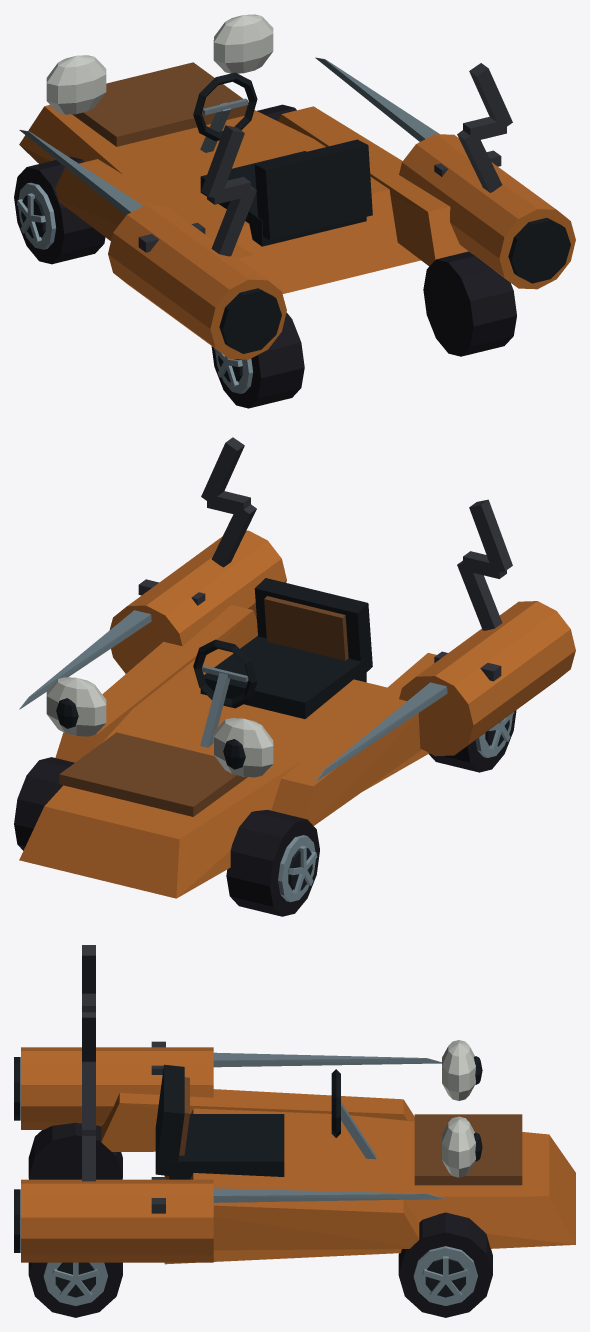
File: kart.glb
The picture shows the model from 3 angles, top to bottom: view 1: azimuth 30°, elevation 25°; view 2: azimuth 150°, elevation 25°; view 3: azimuth 270°, elevation 25°; orthographic projection. The views are drawn at different scales.
Parts seen in each view (by area): view 1: identity-speeder-speeder-long-cowl-and-stern-turbines, identity-speeder-driver-cockpit, wheel-rear-right, identity-speeder-motif-electric, identity-speeder-motif-eyes, wheel-front-left, wheel-rear-left, identity-speeder-motif-swords; view 2: identity-speeder-speeder-long-cowl-and-stern-turbines, identity-speeder-driver-cockpit, wheel-front-left, identity-speeder-motif-electric, identity-speeder-motif-eyes, identity-speeder-motif-swords, wheel-front-right, wheel-rear-left; view 3: identity-speeder-speeder-long-cowl-and-stern-turbines, identity-speeder-driver-cockpit, wheel-front-right, identity-speeder-motif-swords, wheel-rear-right, identity-speeder-motif-eyes, wheel-rear-left, identity-speeder-motif-electric.
Part boxes in pixels (bbox=[...]): identity-speeder-speeder-long-cowl-and-stern-turbines: bbox=[19, 62, 575, 359]; identity-speeder-driver-cockpit: bbox=[193, 72, 372, 246]; wheel-rear-right: bbox=[423, 251, 516, 356]; identity-speeder-motif-electric: bbox=[201, 63, 512, 256]; identity-speeder-motif-eyes: bbox=[46, 14, 273, 114]; wheel-front-left: bbox=[14, 156, 105, 264]; wheel-rear-left: bbox=[211, 312, 304, 408]; identity-speeder-motif-swords: bbox=[19, 57, 501, 252]; identity-speeder-speeder-long-cowl-and-stern-turbines: bbox=[19, 530, 575, 898]; identity-speeder-driver-cockpit: bbox=[193, 578, 372, 747]; wheel-front-left: bbox=[226, 809, 319, 916]; identity-speeder-motif-electric: bbox=[201, 437, 512, 630]; identity-speeder-motif-eyes: bbox=[46, 677, 273, 777]; identity-speeder-motif-swords: bbox=[19, 579, 501, 781]; wheel-front-right: bbox=[14, 757, 74, 850]; wheel-rear-left: bbox=[429, 710, 516, 772]; identity-speeder-speeder-long-cowl-and-stern-turbines: bbox=[14, 1047, 575, 1264]; identity-speeder-driver-cockpit: bbox=[155, 1064, 376, 1179]; wheel-front-right: bbox=[398, 1212, 492, 1317]; identity-speeder-motif-swords: bbox=[151, 1041, 444, 1213]; wheel-rear-right: bbox=[28, 1262, 122, 1317]; identity-speeder-motif-eyes: bbox=[442, 1040, 482, 1177]; wheel-rear-left: bbox=[28, 1122, 122, 1179]; identity-speeder-motif-electric: bbox=[82, 945, 95, 1181].
Bounding box in the file's own units: 2.1 × 1.49 × 2.98.
